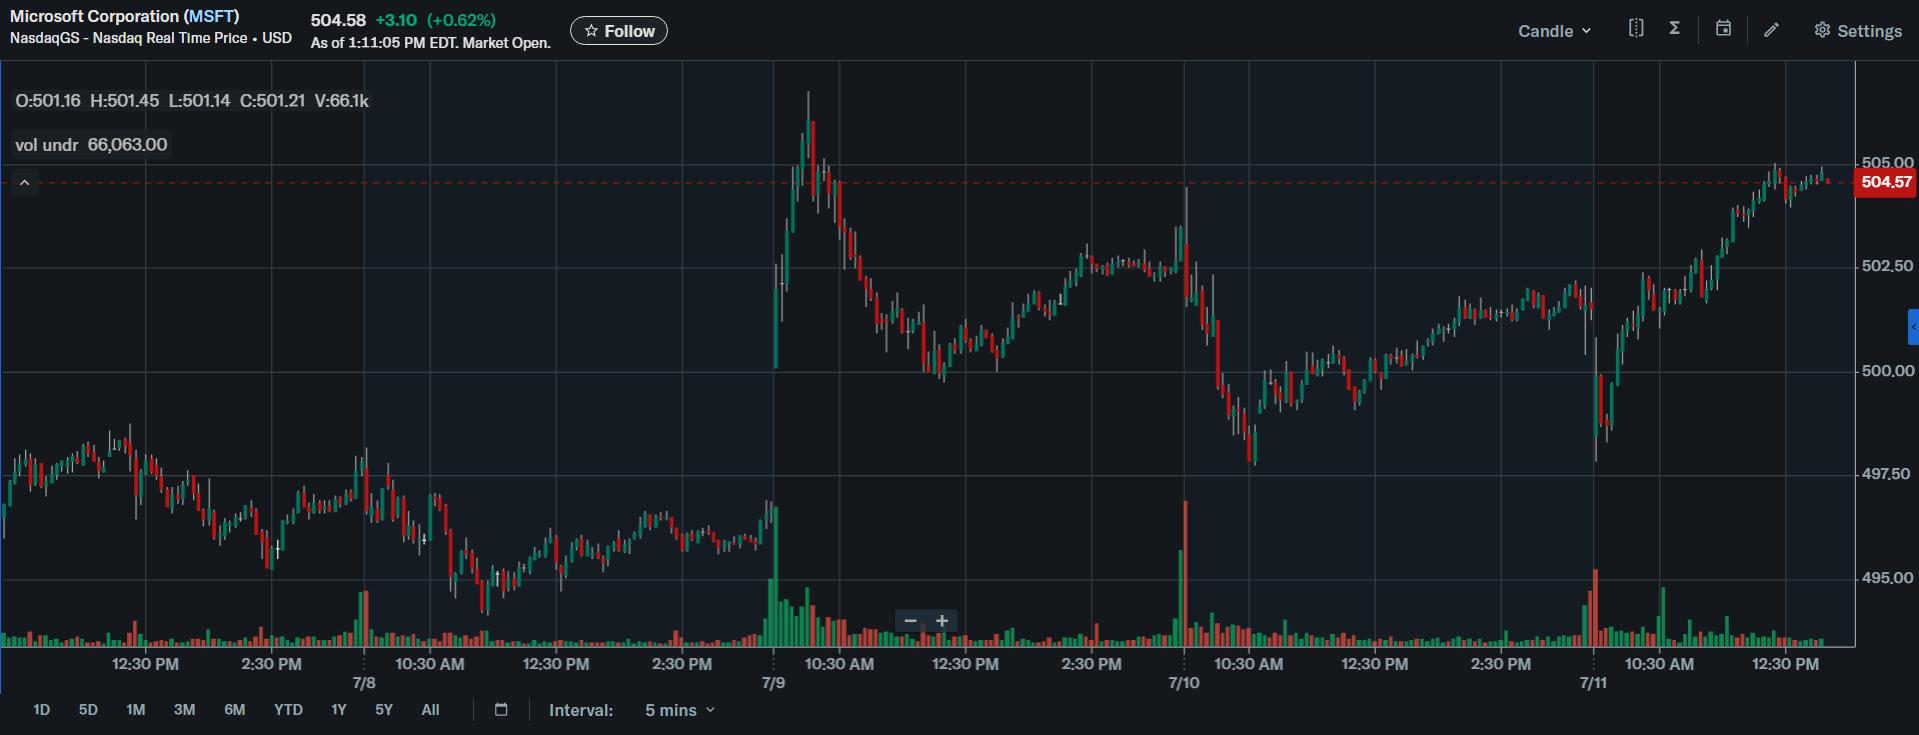Downtrend: (810, 76, 941, 415), (1182, 179, 1267, 501)
Uptrend: (1604, 153, 1777, 467), (996, 223, 1088, 386)
